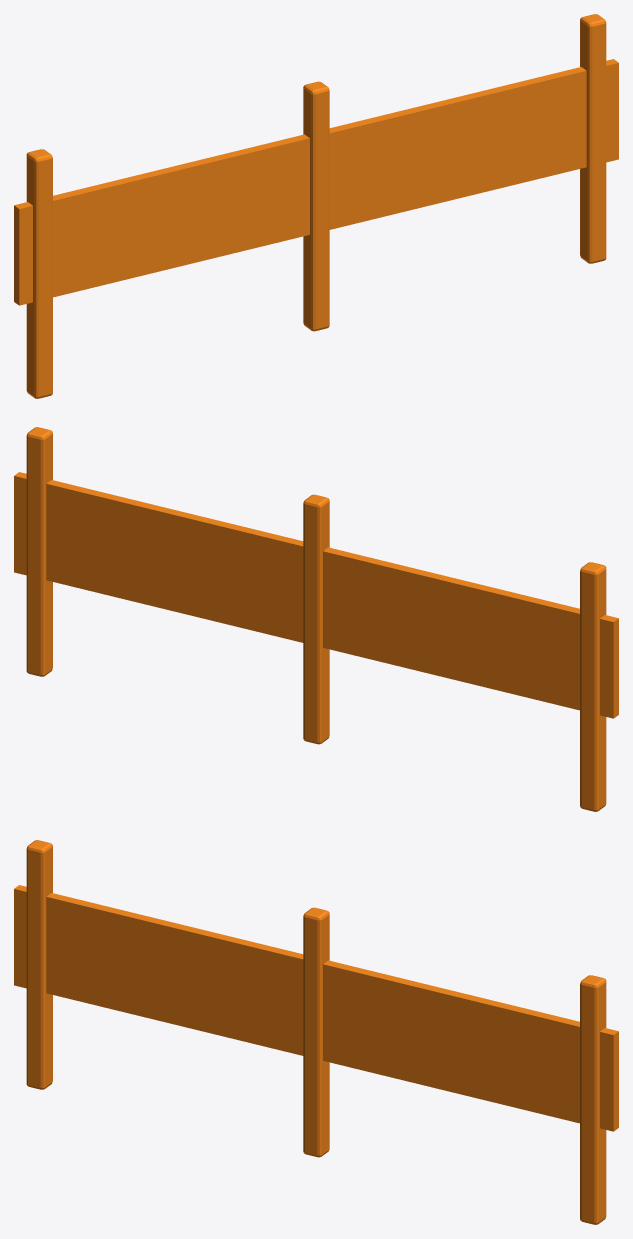
File: Ski_Fence.fbx
3 views of the same model, one above another, from view 1: azimuth 30°, elevation 25°; view 2: azimuth 150°, elevation 25°; view 3: azimuth 330°, elevation 25° (orthographic).
Parts seen in each view (by area): view 1: Fence; view 2: Fence; view 3: Fence.
Part boxes in pixels (x1,y1,x2,y2): Fence: [14, 14, 618, 398]; Fence: [14, 427, 618, 811]; Fence: [14, 840, 618, 1224].
Bounding box in the file's own units: 2.6 × 1 × 0.08.
